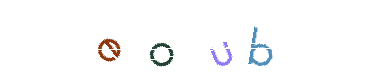B: (191, 0, 271, 80)
E: (69, 0, 149, 80)
O: (121, 0, 201, 80)
U: (155, 0, 235, 80)
